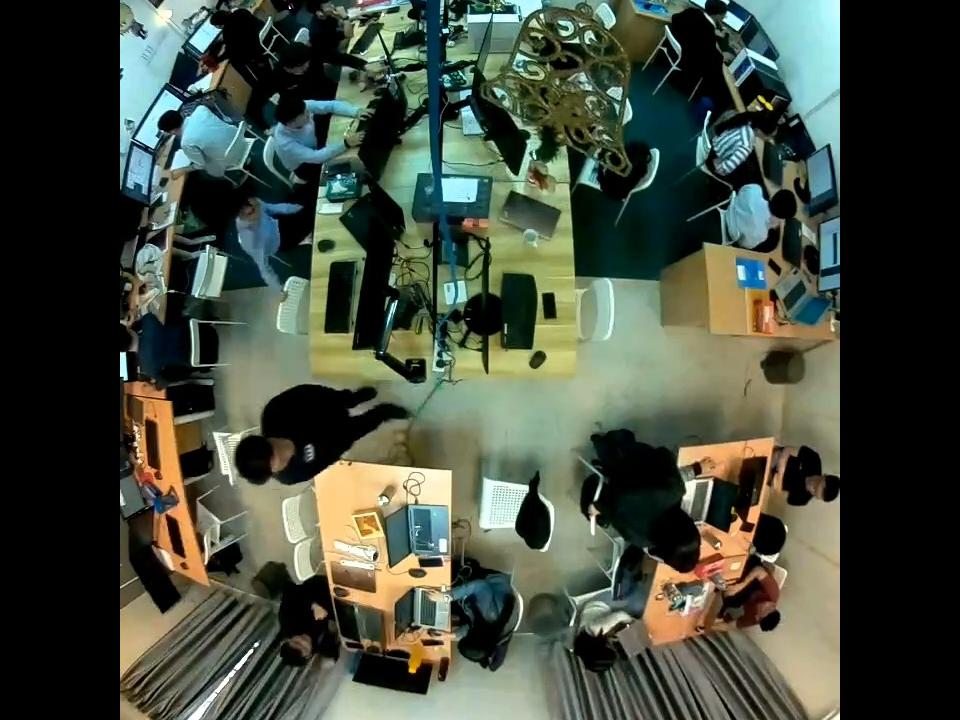name-tag: (298, 439, 318, 465)
